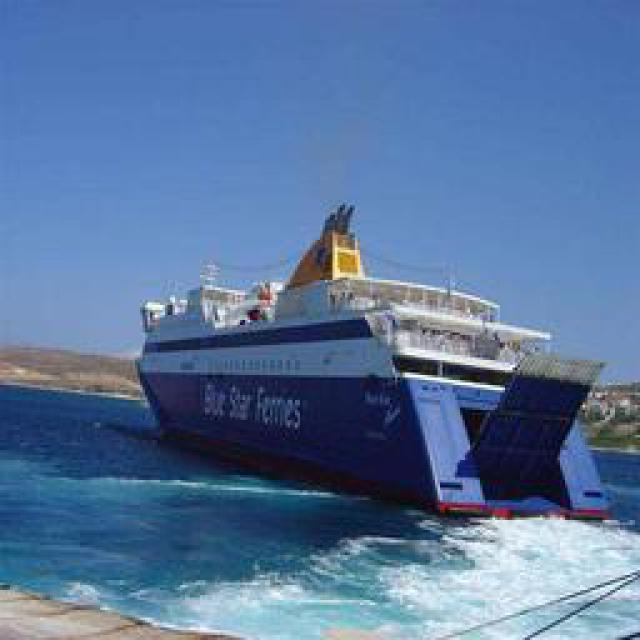Ship: (139, 223, 616, 526)
